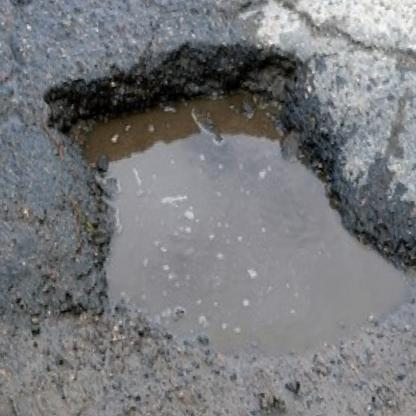pothole: (32, 0, 416, 406)
